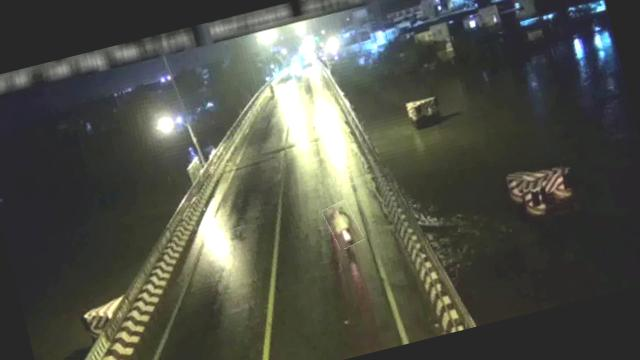Bike: (323, 200, 364, 252)
